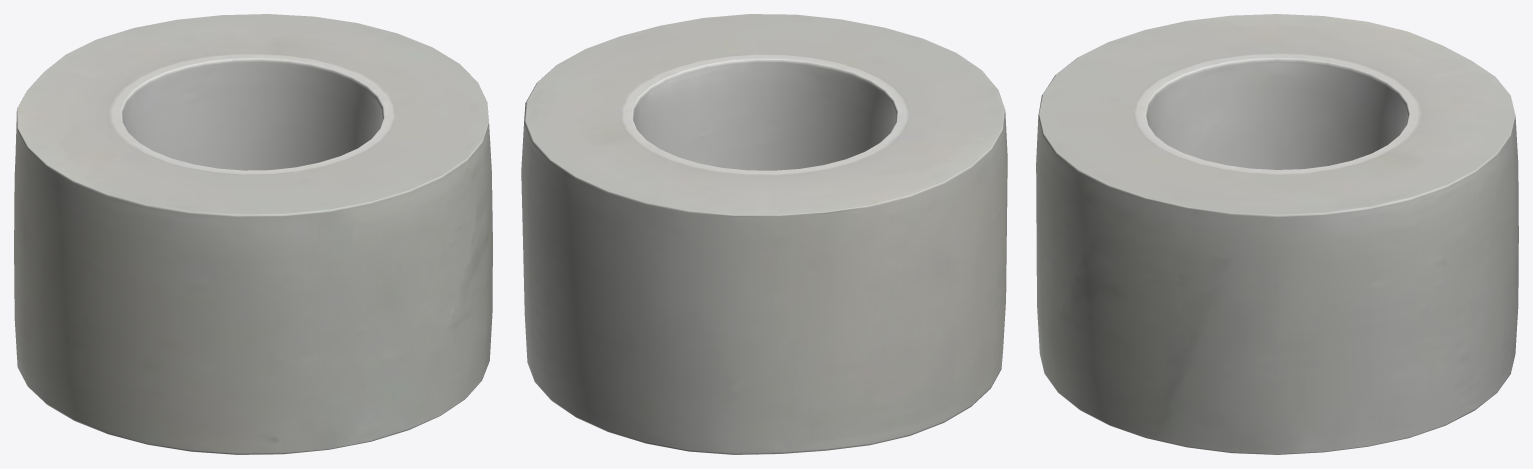
File: medicalTape.glb
3 renders of one model, left to right at view 1: azimuth 30°, elevation 25°; view 2: azimuth 150°, elevation 25°; view 3: azimuth 270°, elevation 25°, orthographic.
Parts seen in each view (by area): view 1: medical_tape; view 2: medical_tape; view 3: medical_tape.
Boxes of the visible parts, left/top/right/bottom form: medical_tape: left=14, top=14, right=492, bottom=454; medical_tape: left=521, top=14, right=1007, bottom=454; medical_tape: left=1036, top=14, right=1518, bottom=454.
Size of the model in its own units: 0.0453 by 0.025 by 0.0452.
1 material, 1 textured.
